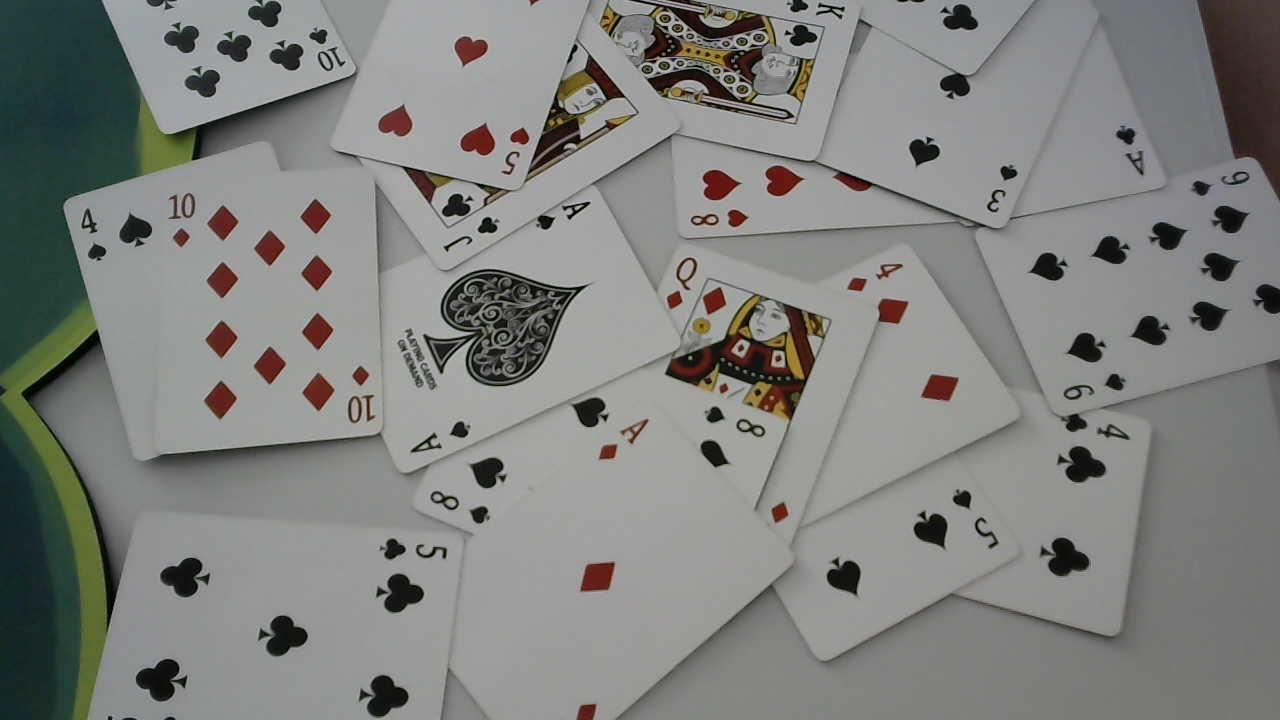10C: (301, 21, 351, 72)
10D: (344, 363, 376, 428), (168, 186, 197, 248)
3S: (985, 157, 1017, 219)
4C: (1055, 406, 1135, 449)
4D: (847, 260, 905, 295)
4S: (75, 204, 110, 267)
5C: (374, 530, 457, 567)
5H: (497, 124, 531, 180)
5S: (946, 483, 1003, 552)
8H: (687, 207, 760, 230)
8S: (702, 397, 769, 442), (429, 484, 494, 530)
9S: (1187, 164, 1257, 201), (1061, 369, 1134, 402)
AC: (1113, 121, 1154, 184)
AD: (592, 414, 652, 467)
AS: (402, 418, 474, 462), (532, 198, 596, 234)
JC: (439, 215, 506, 255)
KC: (779, 0, 848, 26)
QD: (663, 250, 700, 318)
